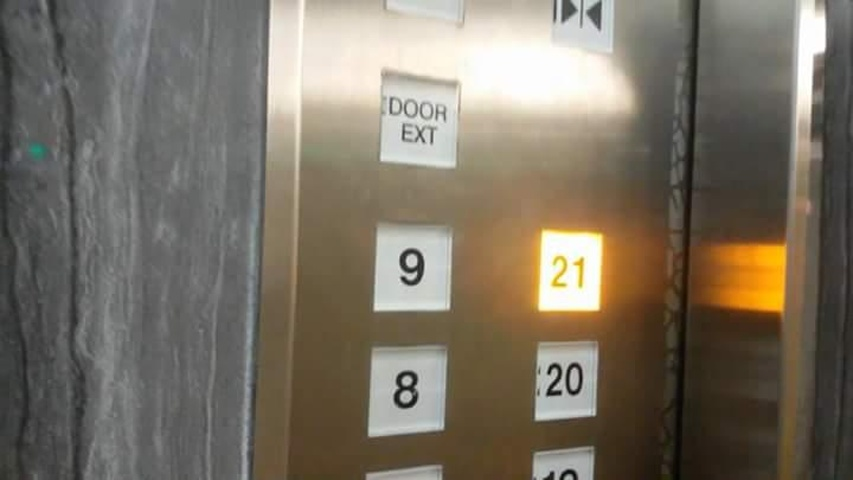20: (529, 337, 601, 425)
21: (534, 228, 605, 317)
8: (365, 342, 449, 440)
9: (369, 217, 456, 316)
close: (547, 1, 614, 57)
text_door ext: (375, 62, 465, 172)
